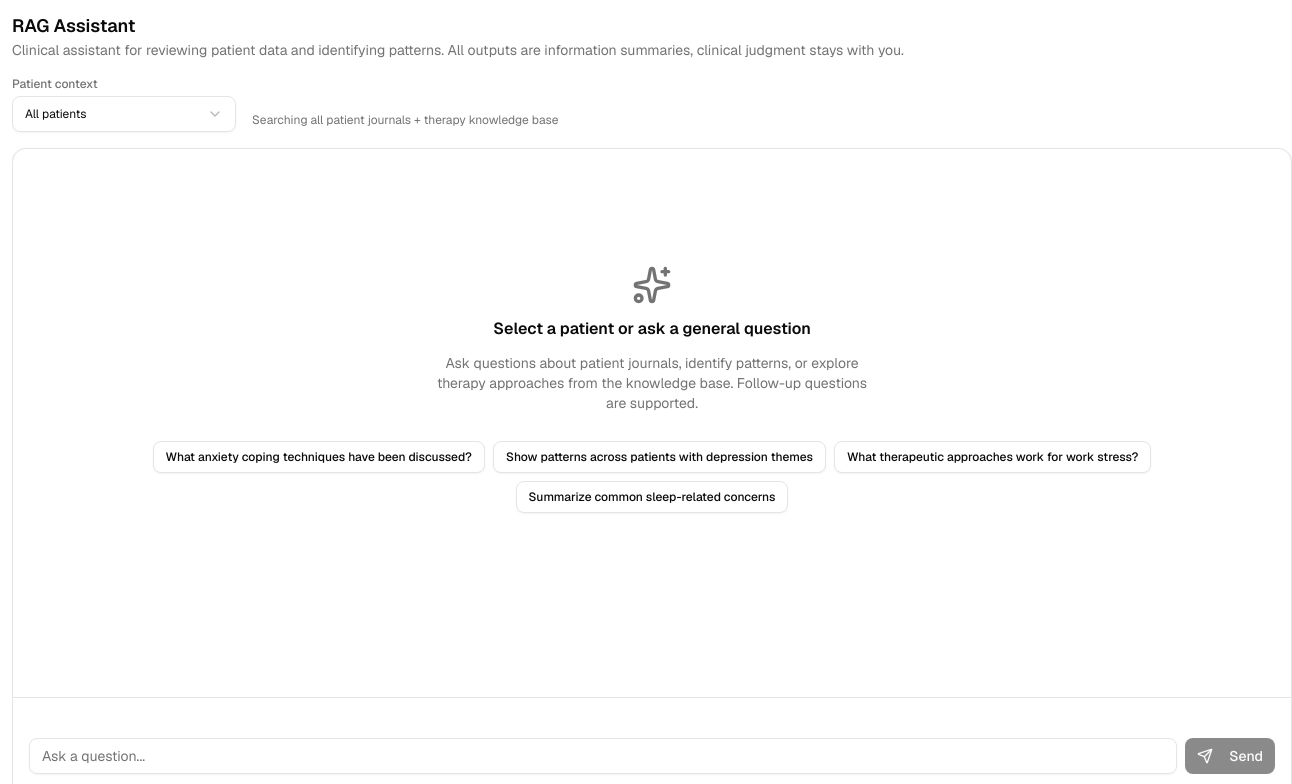
Scenario: RAG Assistant page › shows error state on failed request
The width and height of the screenshot is (1292, 784).
Type "failing query" into the field with placeholder "Ask a question...".
click(603, 756); type("failing query")  # box [29,738,1177,774]
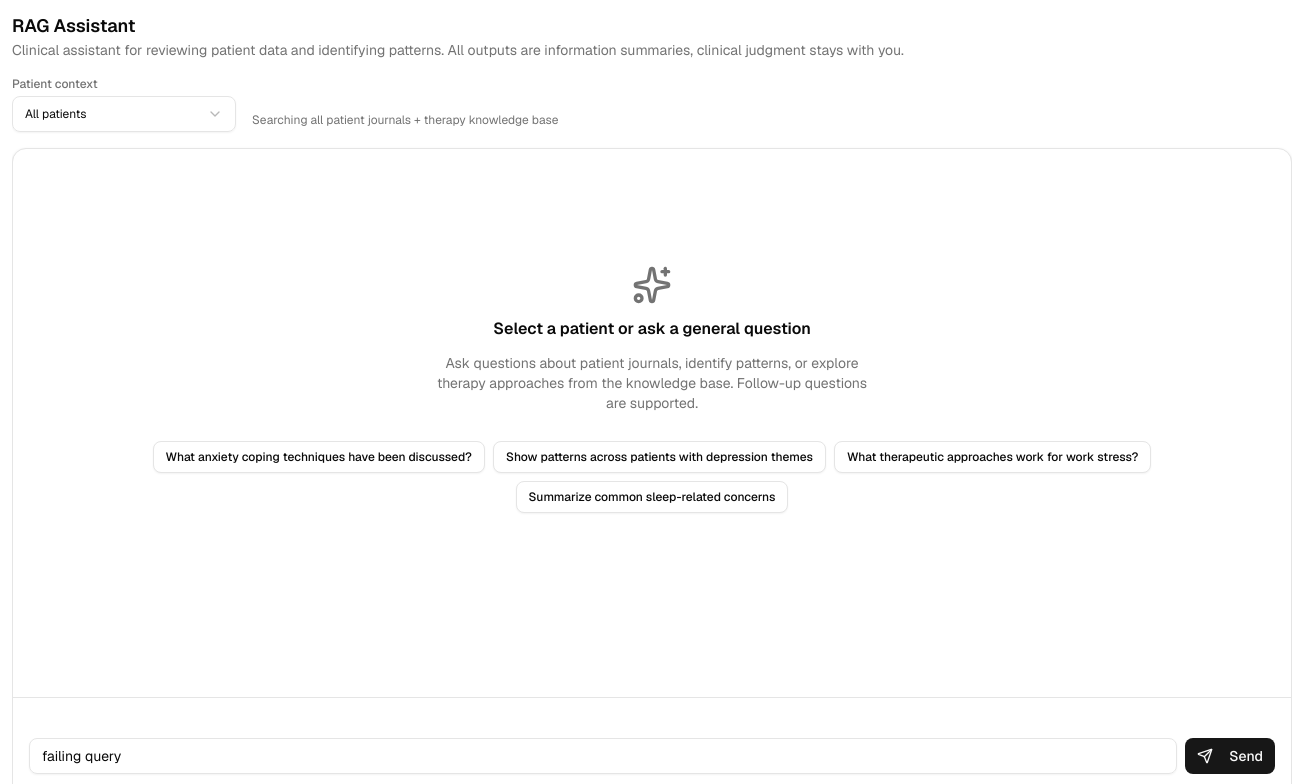
Click the button "Send".
click(1230, 756)  # box [1185,738,1275,774]
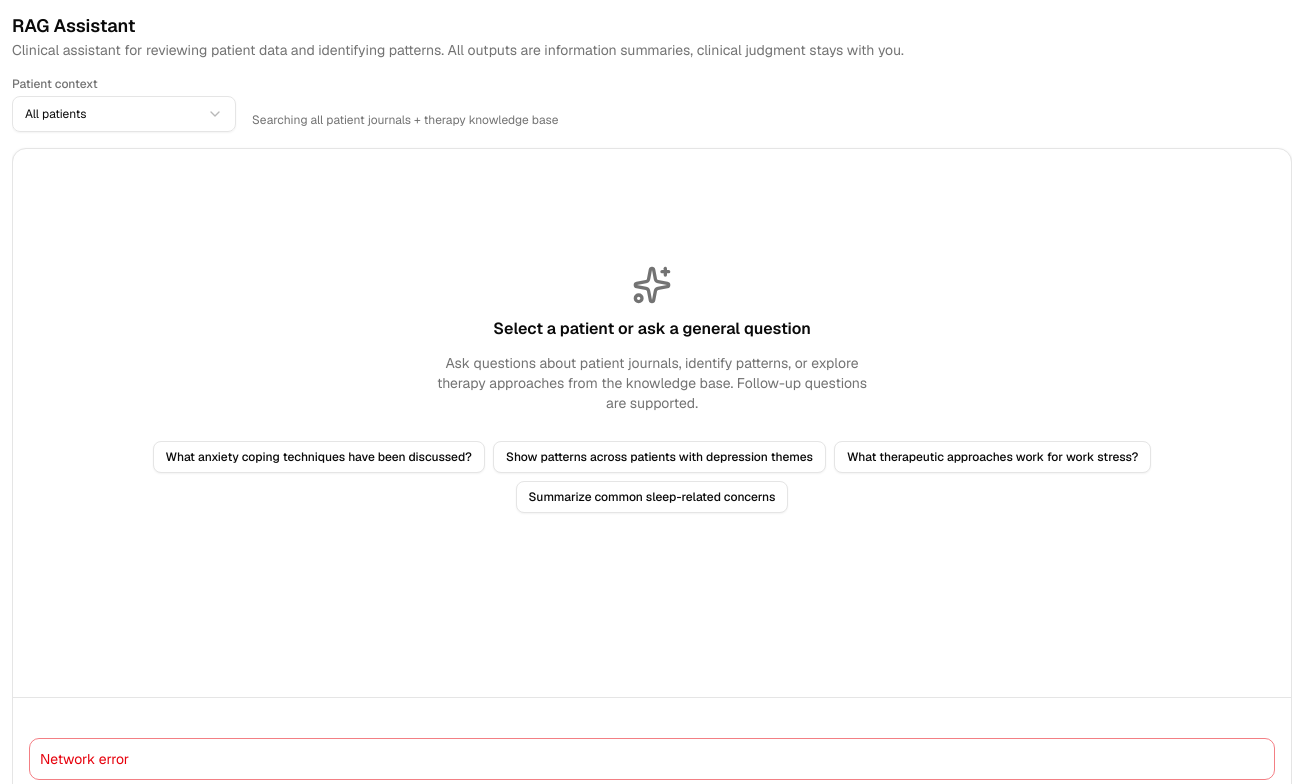
Now the text "Network error" is shown, box [40,750,129,768]
